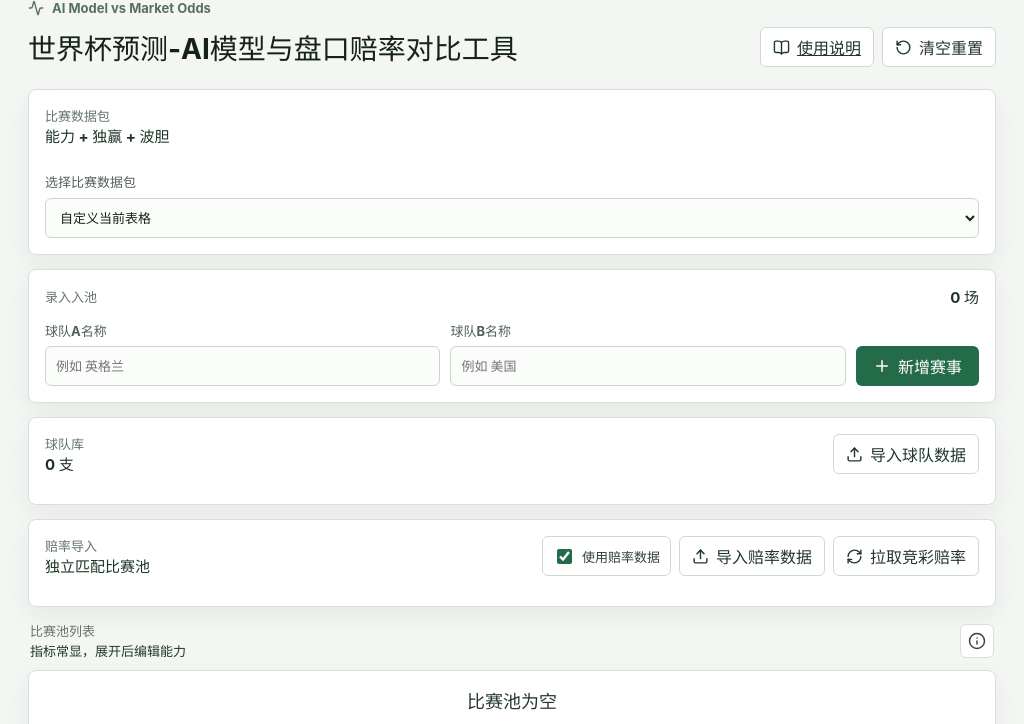
it: App › removes deleted matches from selection
Type "巴西" into the field labelled "球队A名称" at (243, 366), box top-left (45, 346), bottom-right (440, 386)
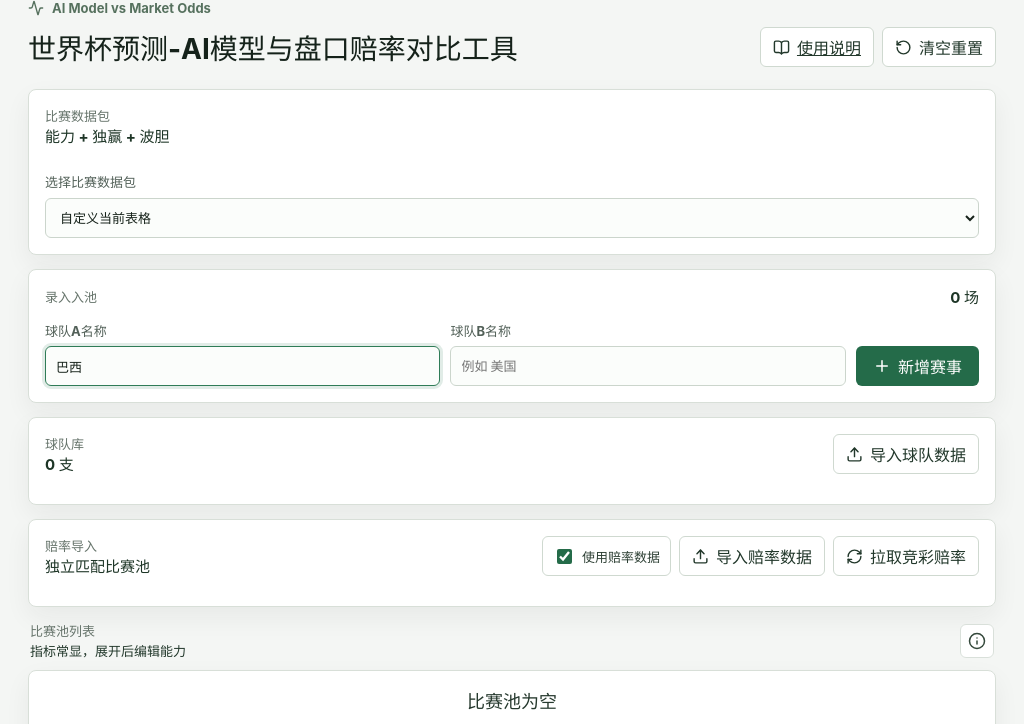
Type "墨西哥" into the field labelled "球队B名称" at (648, 366), box top-left (450, 346), bottom-right (846, 386)
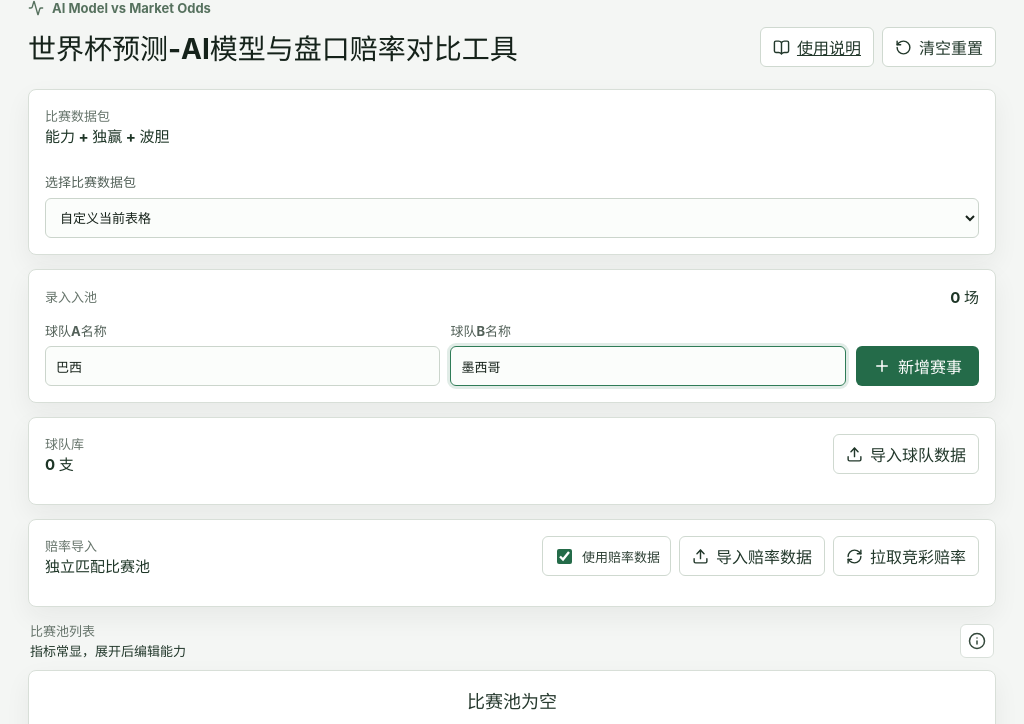
Click the button "新增赛事" at (918, 366), box top-left (856, 346), bottom-right (979, 386)
(page scrolled)
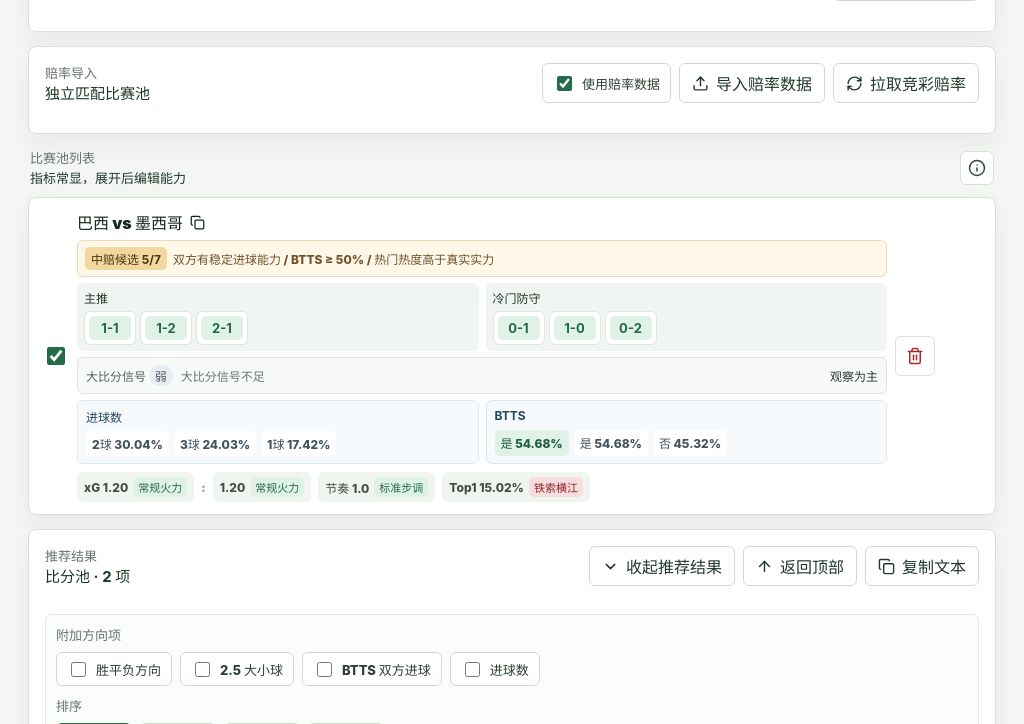
Click the button named "删除 巴西 vs 墨西哥" at (915, 356), box top-left (895, 336), bottom-right (935, 376)
(page scrolled)
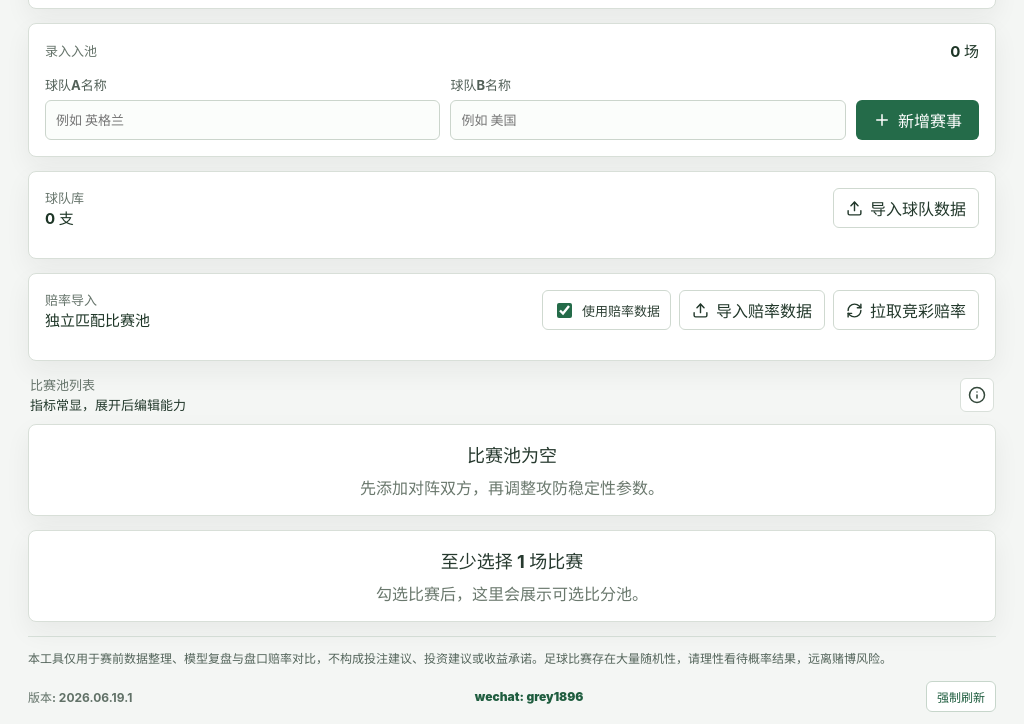
Expected: the button "巴西 vs 墨西哥" is gone
Expected: the heading "至少选择 1 场比赛" is shown, top-left (441, 551), bottom-right (583, 572)
